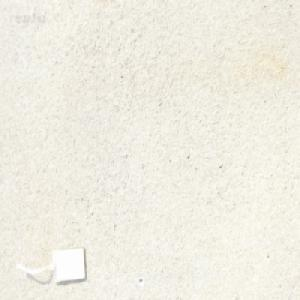LuggageTag: (24, 243, 86, 285)
